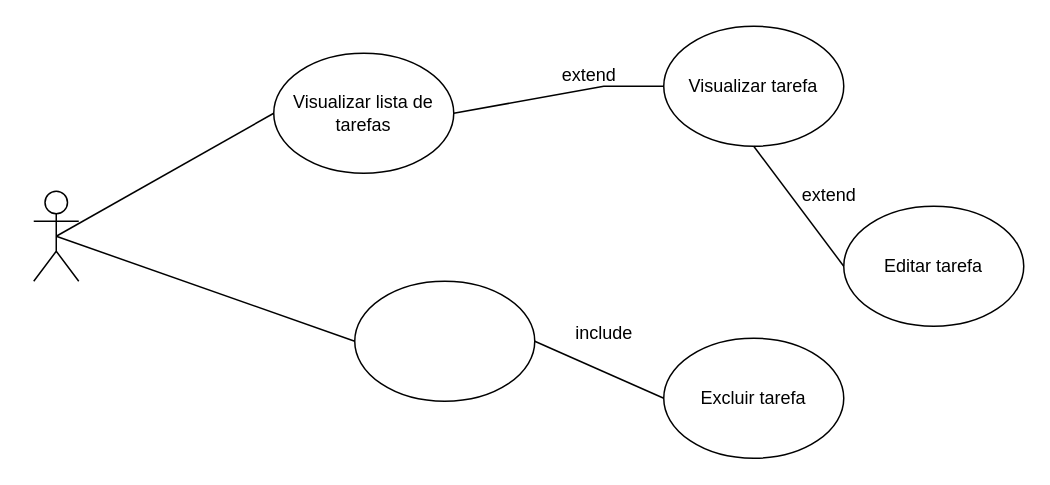
This 1050x485 diagram has some shape labels left out. Here are the shapes that lost their labels. From the top down, the centre of each, then its label:
At point 55,235: "Usuário".
At point 444,340: "Criar tarefa".
